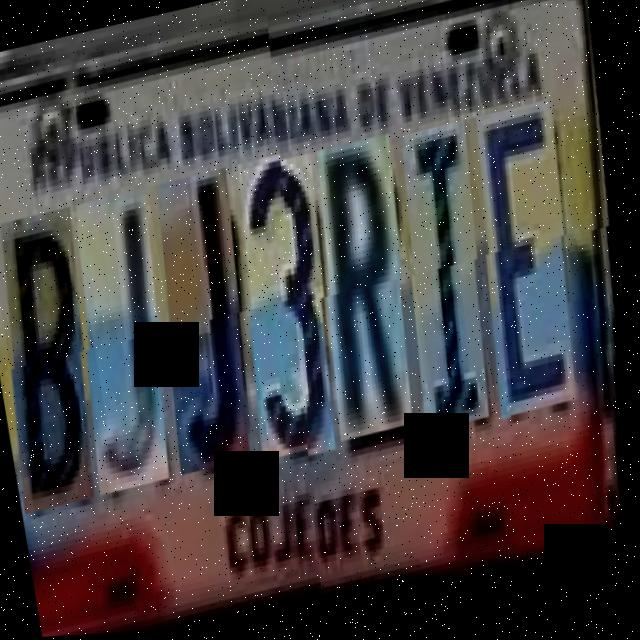3: (222, 154, 366, 471)
B: (0, 210, 123, 519)
E: (459, 104, 607, 427)
I: (385, 124, 519, 438)
J: (141, 174, 280, 484), (61, 194, 199, 503)
R: (301, 136, 442, 447)
